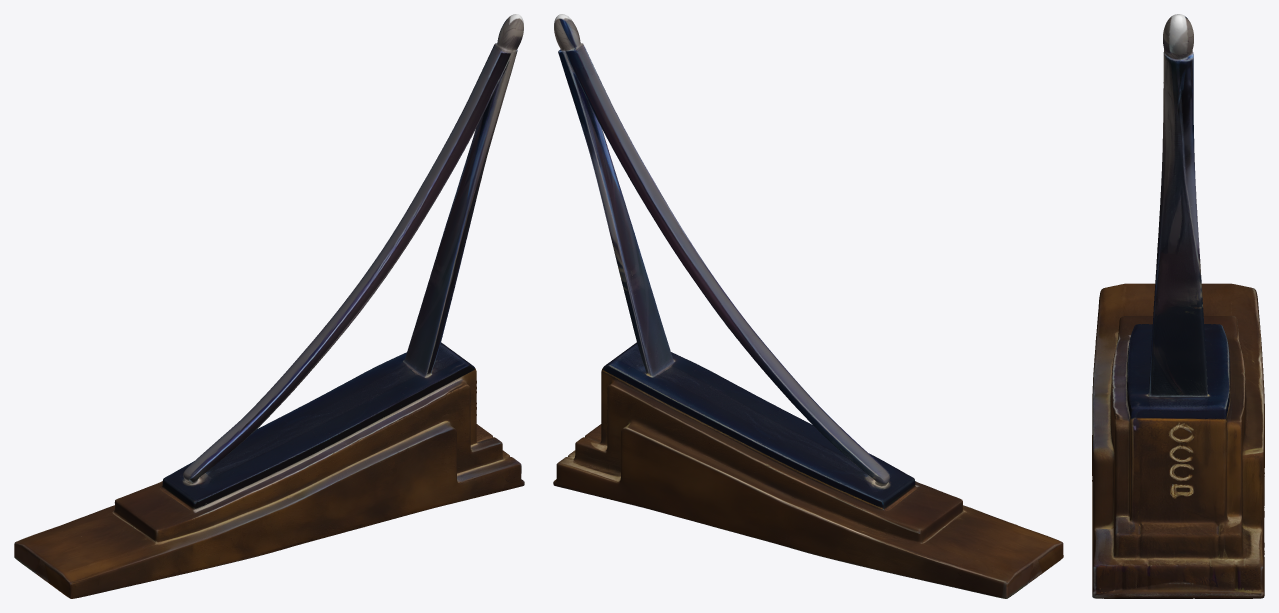
The model's file is gagarin.glb.
3 renders of one model, left to right at view 1: azimuth 30°, elevation 25°; view 2: azimuth 150°, elevation 25°; view 3: azimuth 270°, elevation 25°, orthographic. The views are drawn at different scales.
Size of the model in its own units: 1.9 by 1.7 by 0.4373.
1 material, 1 textured.
